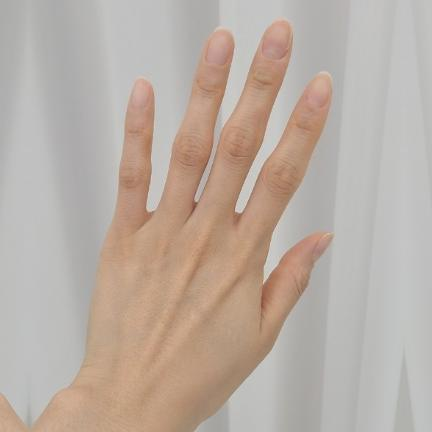Nail: (264, 18, 292, 60), (205, 28, 233, 68), (306, 72, 333, 108), (129, 78, 150, 110), (312, 233, 334, 263)
